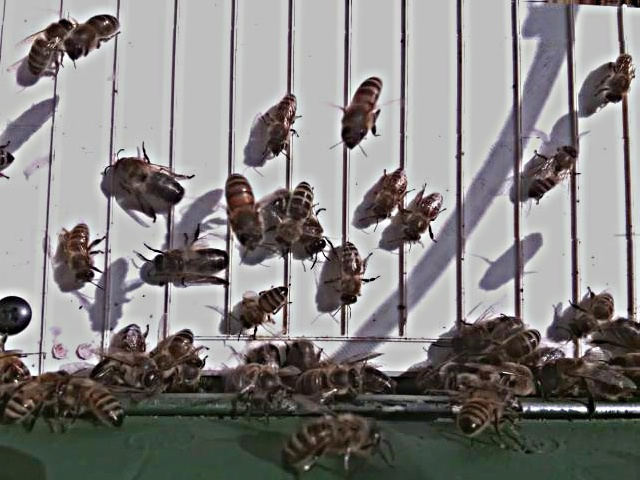Drone: (110, 152, 191, 208), (152, 239, 234, 284), (449, 308, 529, 354)
Worker: (223, 169, 269, 251), (340, 73, 387, 150), (526, 140, 582, 202), (25, 14, 76, 81), (66, 8, 122, 64), (274, 176, 315, 249), (237, 280, 294, 328), (402, 188, 447, 244), (571, 288, 618, 339), (64, 218, 98, 283), (370, 167, 410, 220), (270, 88, 302, 152), (337, 237, 365, 307), (605, 47, 638, 105)
